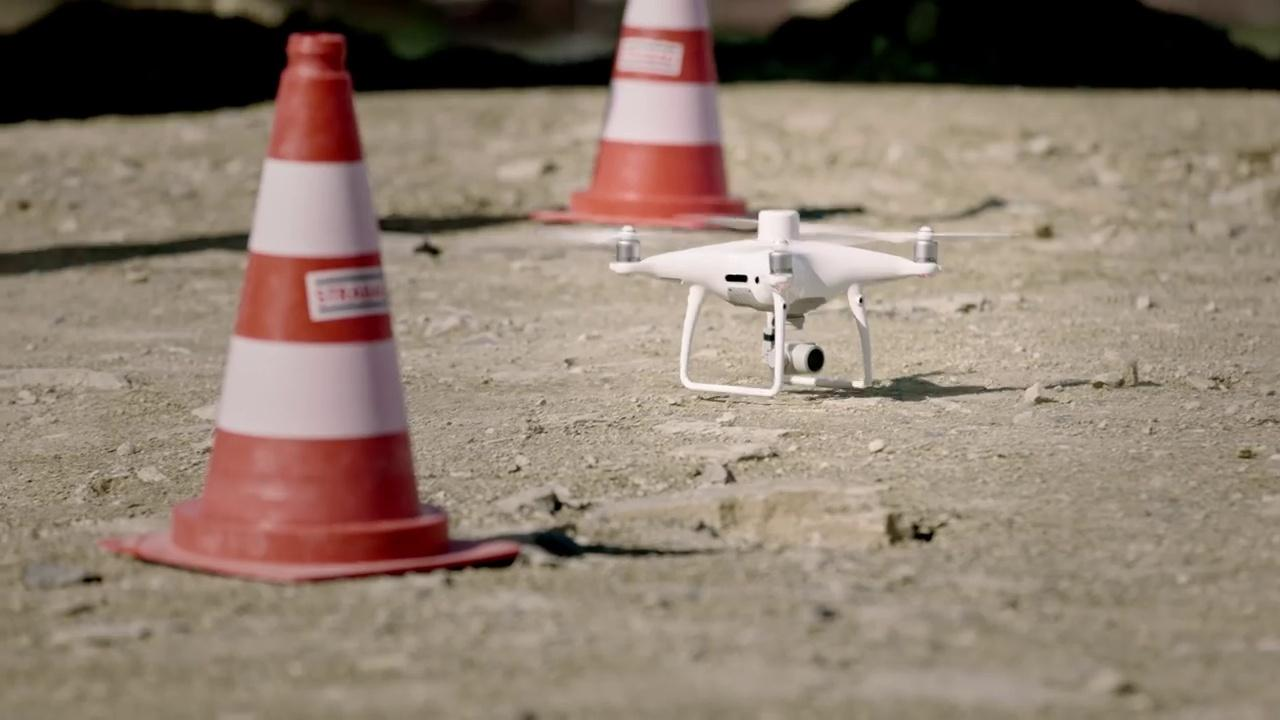drone: (539, 206, 1023, 402)
